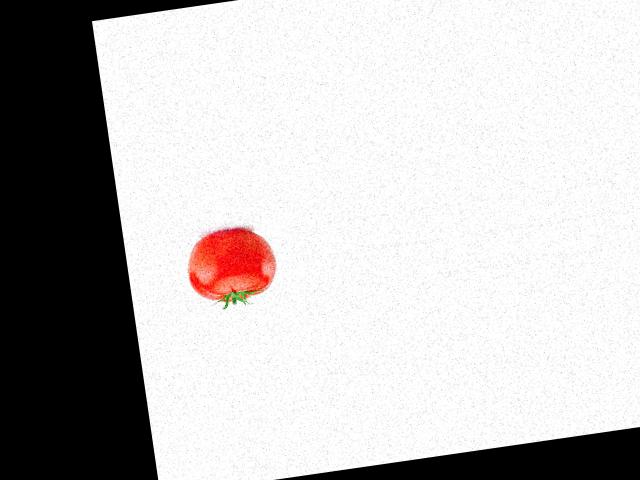tomato: (182, 225, 280, 306)
